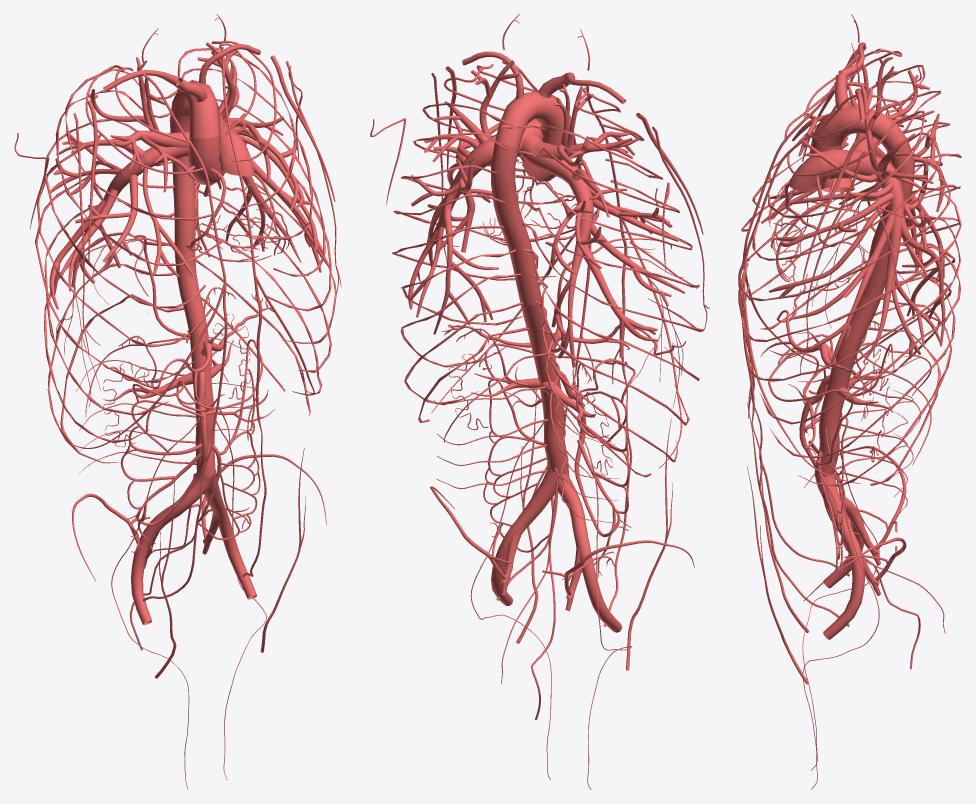
The model's file is arteries.glb.
3 renders of one model, left to right at view 1: azimuth 30°, elevation 25°; view 2: azimuth 150°, elevation 25°; view 3: azimuth 270°, elevation 25°, orthographic. The views are drawn at different scales.
Parts seen in each view (by area): view 1: Posterior intercostal arteries.r.001, Posterior intercostal arteries.l.001, Abdominal aorta.001, Thoracic aorta.001, Aortic arch.001, Superior mesenteric artery.001, External iliac artery.r.001, Ascending aorta.001, Anterior segmental artery of right lung.001, External iliac artery.l.001, Apical segmental artery of right lung.001, Right coronary artery.001 (+27 smaller); view 2: Posterior intercostal arteries.r.001, Posterior intercostal arteries.l.001, Thoracic aorta.001, Abdominal aorta.001, Aortic arch.001, Posterior basal segmental artery of left lung.001, External iliac artery.r.001, Superior segmental artery of right lung.001, Anterior basal segmental artery of right lung.001, Apical segmental artery of right lung.001, Superior mesenteric artery.001, Anterior basal segmental artery of left lung.001 (+23 smaller); view 3: Posterior intercostal arteries.l.001, Posterior intercostal arteries.r.001, Abdominal aorta.001, Aortic arch.001, Lateral basal segmental artery of left lung.001, Thoracic aorta.001, External iliac artery.l.001, Left pulmonary artery.001, Anterior basal segmental artery of left lung.001, Posterior basal segmental artery of left lung.001, Anterior segmental artery of left lung.001, Apical segmental artery of right lung.001 (+36 smaller).
Boxes of the visible parts, bbox=[...] form: Posterior intercostal arteries.r.001: bbox=[35, 68, 221, 463]; Posterior intercostal arteries.l.001: bbox=[172, 47, 336, 416]; Abdominal aorta.001: bbox=[177, 273, 215, 477]; Thoracic aorta.001: bbox=[169, 102, 196, 275]; Aortic arch.001: bbox=[172, 80, 220, 138]; Superior mesenteric artery.001: bbox=[125, 371, 275, 525]; External iliac artery.r.001: bbox=[130, 516, 164, 625]; Ascending aorta.001: bbox=[188, 135, 225, 185]; Anterior segmental artery of right lung.001: bbox=[110, 130, 196, 192]; External iliac artery.l.001: bbox=[212, 504, 256, 599]; Apical segmental artery of right lung.001: bbox=[86, 57, 166, 133]; Right coronary artery.001: bbox=[186, 168, 271, 262]; Posterior intercostal arteries.r.001: bbox=[501, 124, 704, 477]; Posterior intercostal arteries.l.001: bbox=[392, 102, 575, 422]; Thoracic aorta.001: bbox=[491, 143, 541, 305]; Abdominal aorta.001: bbox=[520, 296, 568, 473]; Aortic arch.001: bbox=[495, 91, 571, 147]; Posterior basal segmental artery of left lung.001: bbox=[433, 184, 498, 334]; External iliac artery.r.001: bbox=[575, 534, 622, 632]; Superior segmental artery of right lung.001: bbox=[545, 196, 606, 275]; Anterior basal segmental artery of right lung.001: bbox=[582, 244, 658, 357]; Apical segmental artery of right lung.001: bbox=[553, 84, 593, 166]; Superior mesenteric artery.001: bbox=[506, 361, 631, 537]; Anterior basal segmental artery of left lung.001: bbox=[408, 222, 444, 317]; Posterior intercostal arteries.l.001: bbox=[741, 110, 961, 486]; Posterior intercostal arteries.r.001: bbox=[741, 65, 961, 382]; Abdominal aorta.001: bbox=[814, 295, 880, 476]; Aortic arch.001: bbox=[813, 107, 906, 151]; Lateral basal segmental artery of left lung.001: bbox=[791, 209, 894, 363]; Thoracic aorta.001: bbox=[862, 140, 915, 300]; External iliac artery.l.001: bbox=[823, 531, 864, 639]; Left pulmonary artery.001: bbox=[859, 153, 904, 270]; Anterior basal segmental artery of left lung.001: bbox=[862, 269, 941, 362]; Posterior basal segmental artery of left lung.001: bbox=[901, 214, 945, 346]; Anterior segmental artery of left lung.001: bbox=[789, 140, 893, 211]; Apical segmental artery of right lung.001: bbox=[834, 57, 929, 119].
Bounding box in the file's own units: 0.2873 × 0.7375 × 0.1986.
